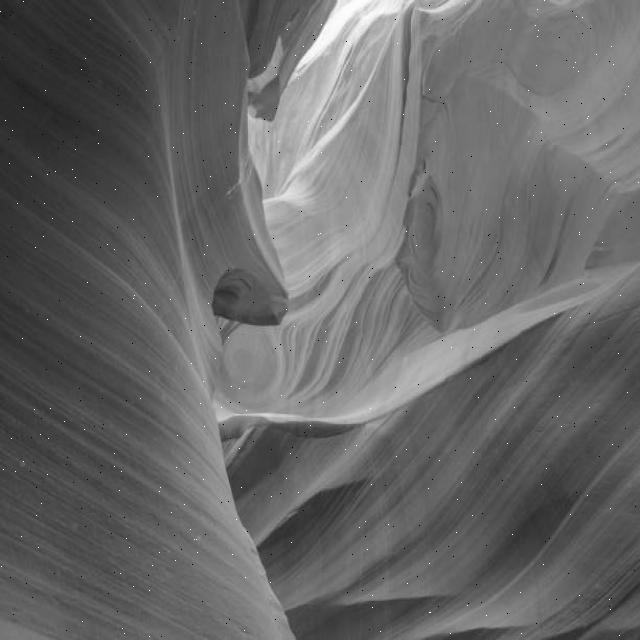Sedimentary: (1, 1, 640, 636)
